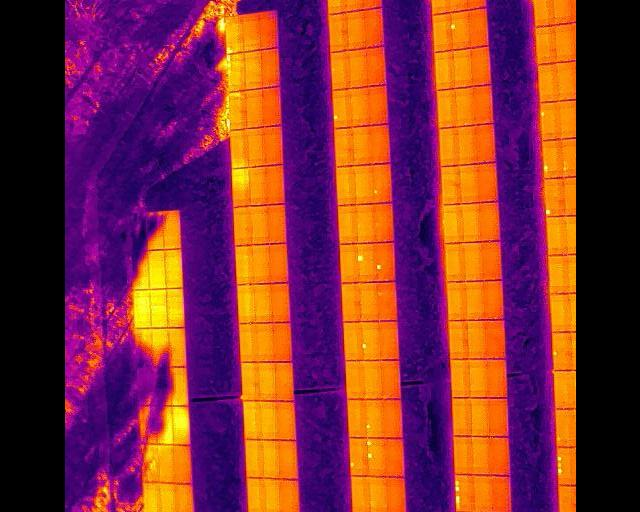Cell: (331, 89, 352, 129), (539, 101, 561, 139), (542, 141, 563, 180), (545, 179, 565, 219), (551, 332, 572, 370), (374, 242, 393, 283), (450, 10, 469, 50), (360, 321, 379, 361), (357, 244, 376, 282), (371, 166, 391, 202), (555, 408, 573, 447), (377, 283, 395, 320), (348, 439, 365, 476), (365, 400, 381, 437), (558, 483, 574, 512), (446, 0, 465, 12)
Cell-Multi: (366, 436, 385, 477), (454, 473, 473, 512), (557, 448, 573, 487), (227, 55, 244, 91)
No-Anomaly: (469, 46, 491, 87), (438, 125, 458, 169), (237, 322, 259, 362), (456, 125, 477, 166), (550, 293, 571, 334), (546, 216, 567, 256), (472, 85, 493, 125), (434, 47, 453, 91), (487, 396, 507, 437), (441, 205, 462, 244), (379, 321, 399, 361), (240, 362, 260, 402), (236, 284, 256, 324), (549, 255, 569, 294), (372, 204, 392, 243), (451, 359, 470, 400), (270, 284, 289, 325), (264, 125, 283, 166), (475, 122, 494, 163), (490, 475, 511, 512), (461, 203, 480, 243), (459, 164, 478, 204), (455, 87, 474, 127), (453, 436, 472, 476), (452, 397, 471, 437), (452, 48, 471, 88), (449, 319, 468, 359), (363, 8, 382, 48), (269, 243, 288, 283), (259, 9, 278, 49), (482, 241, 501, 281), (440, 165, 458, 207), (437, 89, 456, 128), (385, 439, 404, 478), (382, 399, 401, 438), (369, 125, 388, 164), (339, 245, 358, 284), (337, 205, 356, 244), (485, 320, 504, 359), (474, 473, 493, 512), (445, 242, 463, 283), (368, 85, 386, 126), (258, 361, 276, 402), (553, 372, 572, 410), (366, 48, 385, 86), (346, 400, 365, 438), (336, 166, 355, 204), (329, 51, 348, 89), (538, 65, 557, 103), (536, 26, 555, 64), (490, 437, 509, 475), (487, 359, 506, 397), (448, 283, 466, 323), (380, 362, 400, 398), (355, 204, 373, 244), (277, 400, 295, 440), (479, 202, 497, 242), (465, 281, 483, 320), (468, 359, 486, 398), (348, 50, 366, 89), (341, 283, 359, 322), (262, 87, 280, 126), (260, 48, 278, 87), (243, 401, 261, 440), (558, 62, 576, 101), (484, 281, 502, 320), (472, 436, 490, 475), (463, 241, 480, 282), (468, 9, 486, 47), (350, 476, 369, 512), (280, 441, 298, 479), (272, 325, 290, 363), (243, 14, 261, 52), (478, 164, 496, 202), (468, 320, 485, 360), (266, 165, 283, 205), (555, 25, 573, 62), (263, 477, 282, 512), (471, 398, 488, 437), (362, 360, 379, 399), (347, 13, 364, 52), (343, 323, 360, 362), (248, 129, 265, 168), (244, 51, 261, 90), (233, 207, 250, 246), (171, 367, 188, 406), (166, 289, 183, 328), (254, 283, 270, 324), (354, 166, 371, 204), (335, 128, 352, 166), (250, 207, 267, 245), (249, 168, 266, 206), (234, 246, 251, 284), (231, 131, 248, 169), (173, 445, 190, 483), (261, 401, 277, 441), (257, 322, 273, 362), (173, 406, 189, 446), (165, 248, 181, 288), (134, 289, 150, 329), (328, 14, 346, 49), (359, 284, 376, 321), (163, 212, 180, 249), (157, 446, 174, 483), (433, 12, 449, 51), (353, 127, 369, 166), (263, 440, 279, 479), (234, 169, 250, 208), (151, 288, 166, 329), (267, 206, 284, 242), (276, 363, 292, 401), (148, 250, 164, 288), (252, 245, 268, 282), (246, 440, 262, 477), (352, 87, 367, 126), (169, 328, 184, 367), (389, 478, 406, 512), (370, 478, 387, 512), (246, 90, 261, 128), (282, 479, 299, 512), (346, 362, 361, 399), (561, 101, 576, 138), (534, 0, 553, 28), (176, 483, 193, 512), (249, 478, 263, 512), (142, 484, 159, 512), (554, 0, 573, 25), (159, 483, 175, 512), (430, 0, 447, 14), (329, 0, 346, 14), (345, 0, 363, 13), (361, 0, 380, 8)
Shadowing: (131, 250, 151, 290), (145, 212, 164, 250), (134, 328, 153, 366), (150, 328, 168, 368), (138, 405, 156, 445), (140, 444, 158, 483), (138, 365, 155, 406), (156, 405, 173, 445), (154, 368, 171, 407)
Unclassified: (225, 16, 244, 54), (228, 91, 246, 131)
